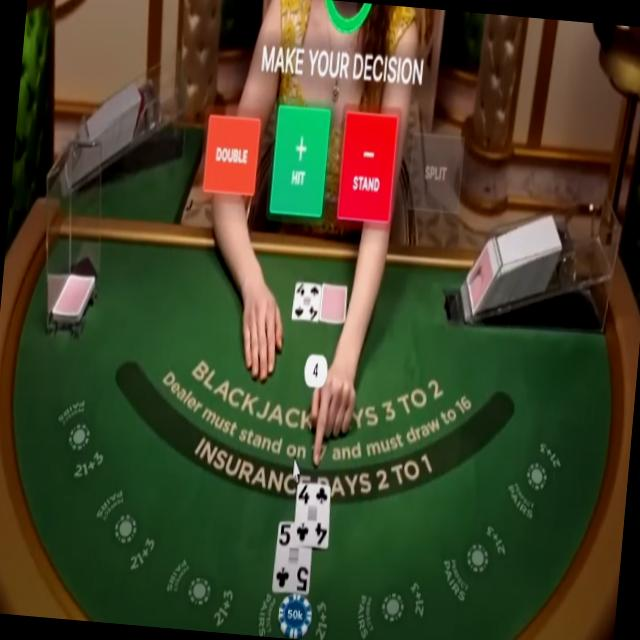Card-4: (294, 479, 330, 546), (291, 281, 320, 321)
Card-5: (271, 519, 311, 593)
